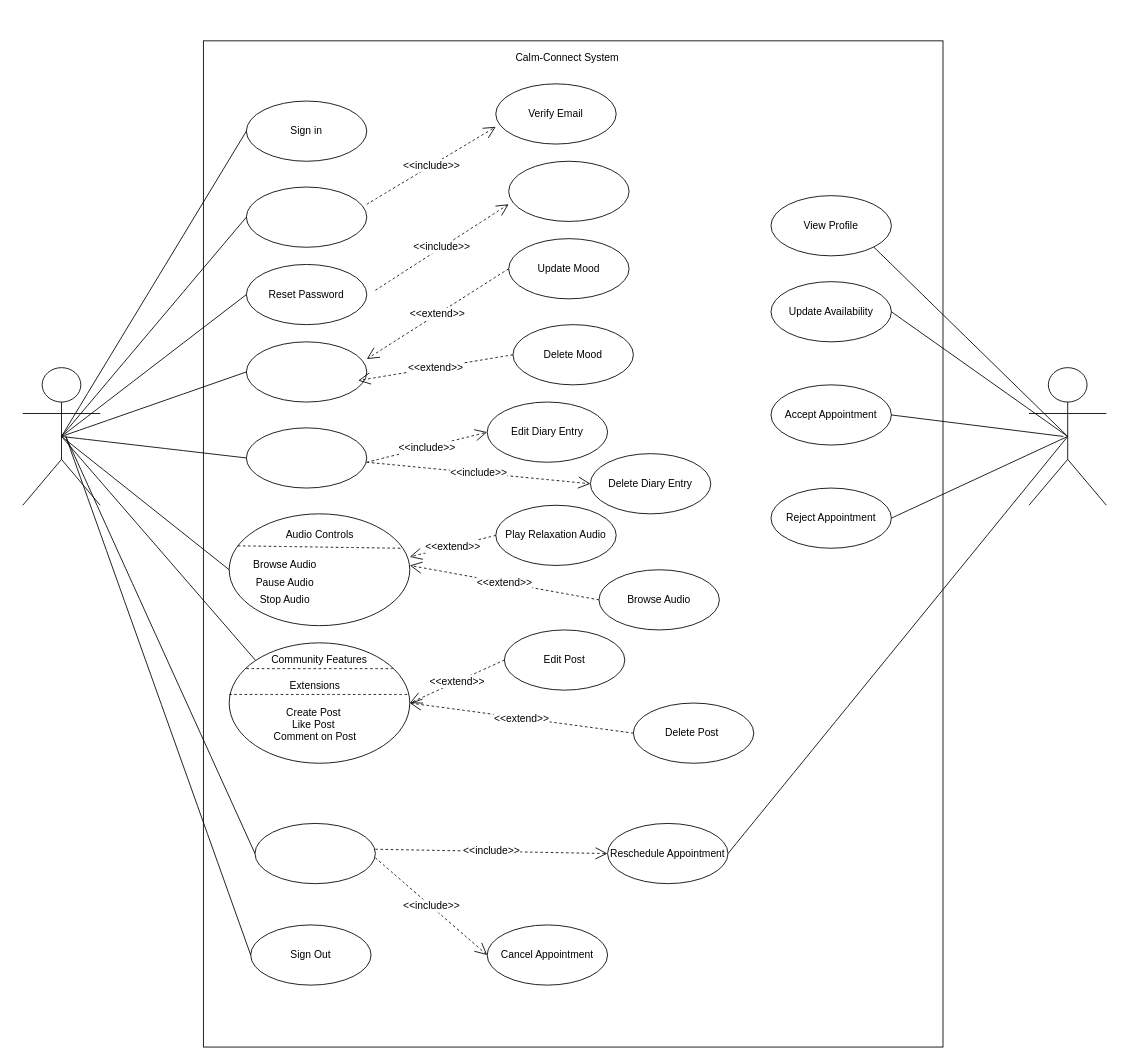
Image size: 1121x1062. Some labels were removed from this diagram. Here are the shapes that lost their labels. From the top down, the centre of each, then its label:
At (x=568, y=190): "Use Case".
At (x=306, y=216): "Sign up".
At (x=306, y=371): "Record Mood".
At (x=61, y=436): "Student".
At (x=1067, y=436): "Counsellor".
At (x=306, y=457): "Write Diary Entry".
At (x=314, y=853): "Book Counselling Session".
